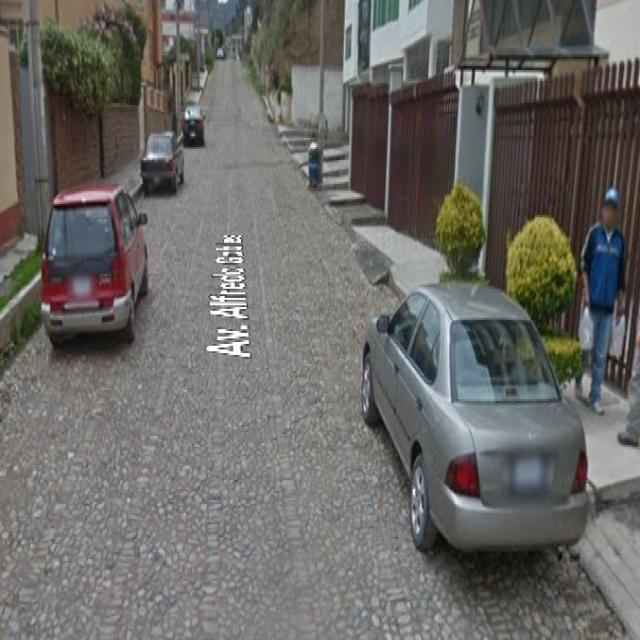Car: (360, 276, 594, 547), (38, 183, 150, 339), (138, 132, 188, 189)
